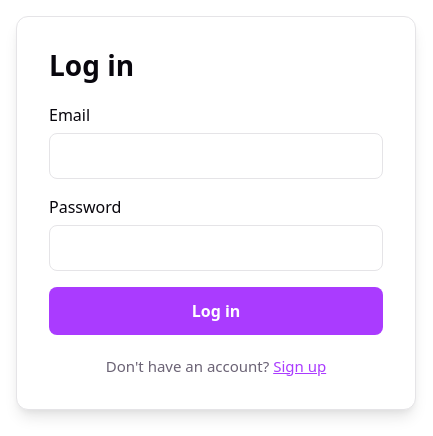
Test: LoginPage › logs in with normalised input and navigates home
Expected: the heading "Log in" is shown, left=49, top=46, right=134, bottom=84
In the field labelled "Email": (216, 156) left=49, top=132, right=383, bottom=178, type "  Ada@Example.com "
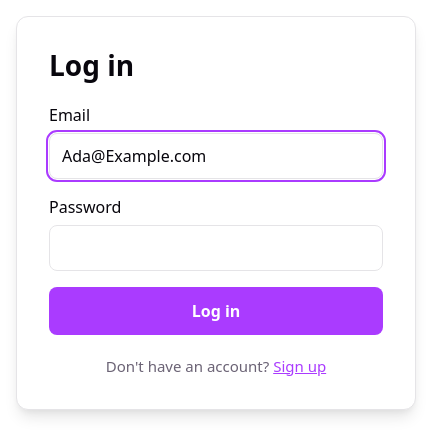
In the password field labelled "Password": (216, 248) left=49, top=224, right=383, bottom=270, type " pass word "
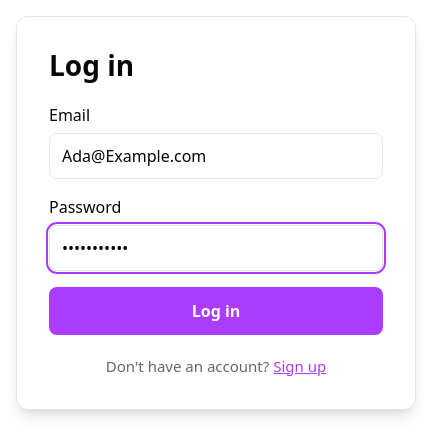
Click the button "Log in": (216, 310) left=49, top=286, right=383, bottom=334
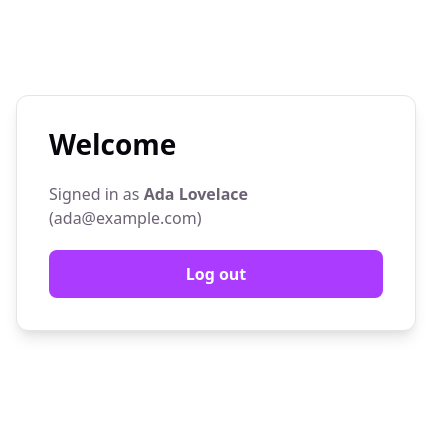
Expected: the text "Signed in as Ada Lovelace (ada@example.com)" is shown, left=49, top=183, right=248, bottom=229
